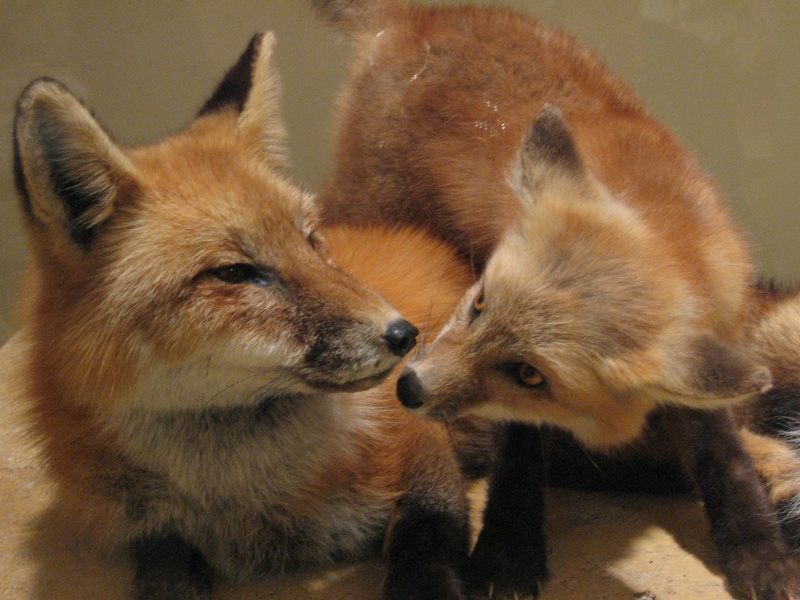fox: (325, 1, 797, 592), (4, 26, 482, 600)
